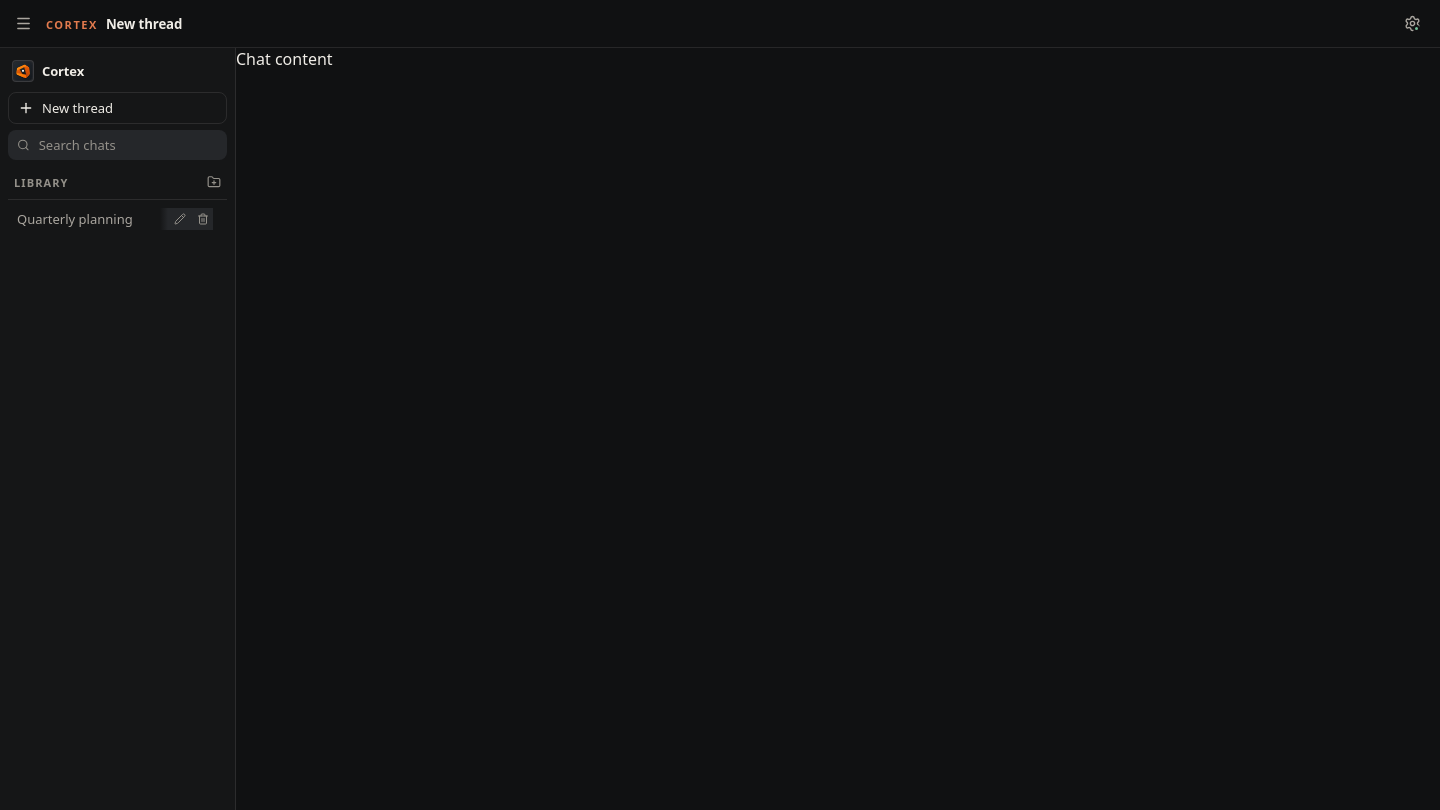
Scenario: AppShell › leaves the chat alone when the delete is cancelled
Click the button named "Delete Quarterly planning": (202, 219) [191,208,213,230]
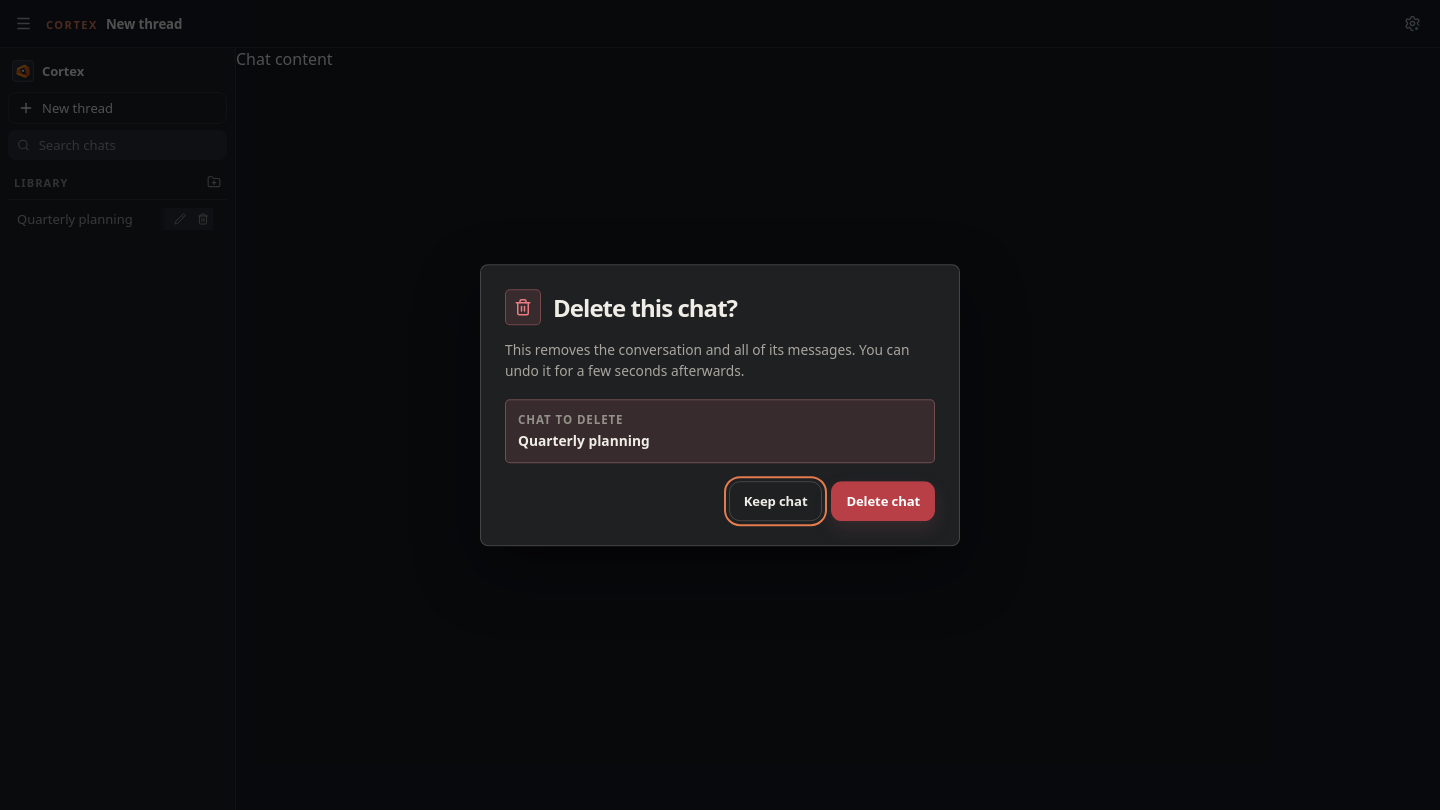
Click the button "Keep chat": (776, 501) [729,481,822,521]
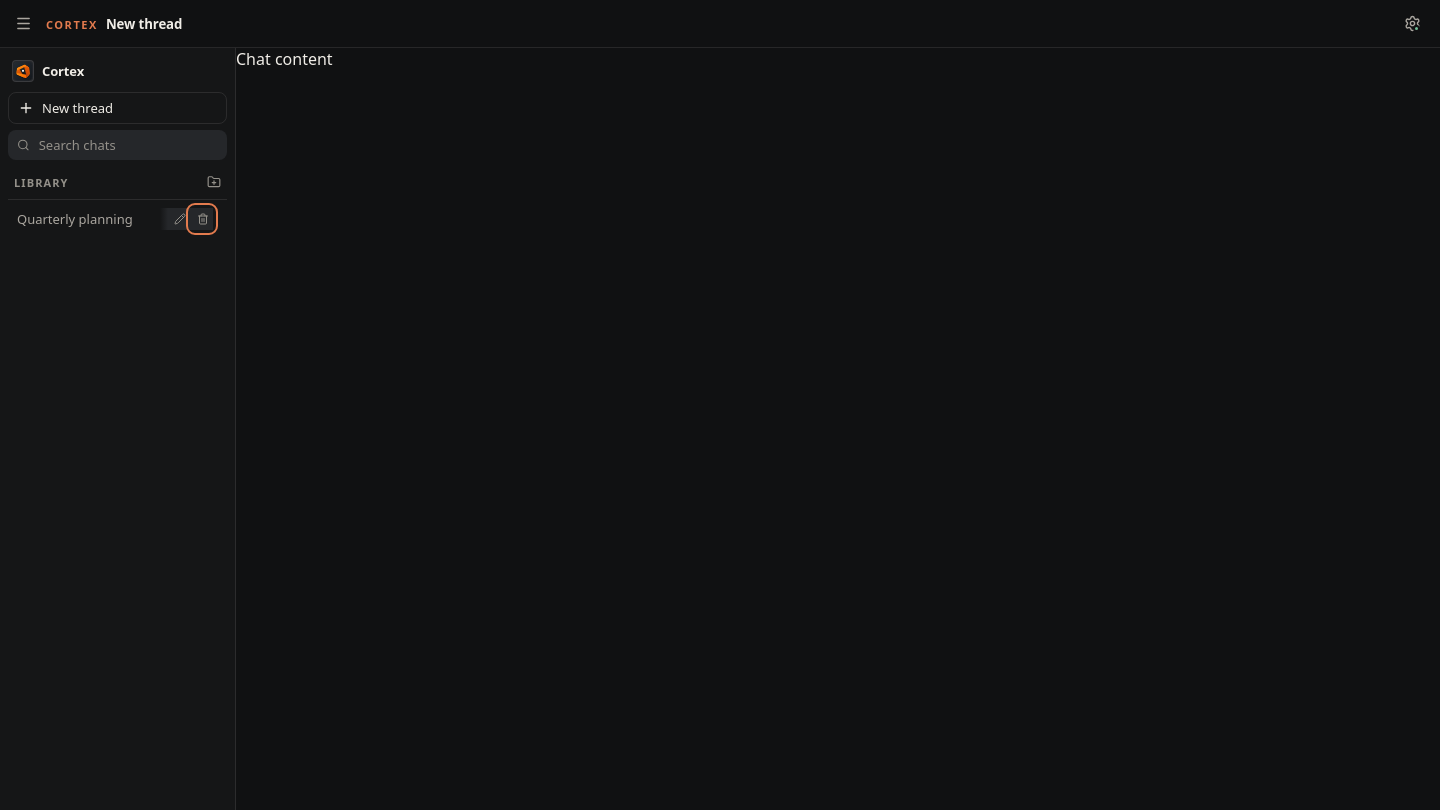
Expected: the dialog is gone
